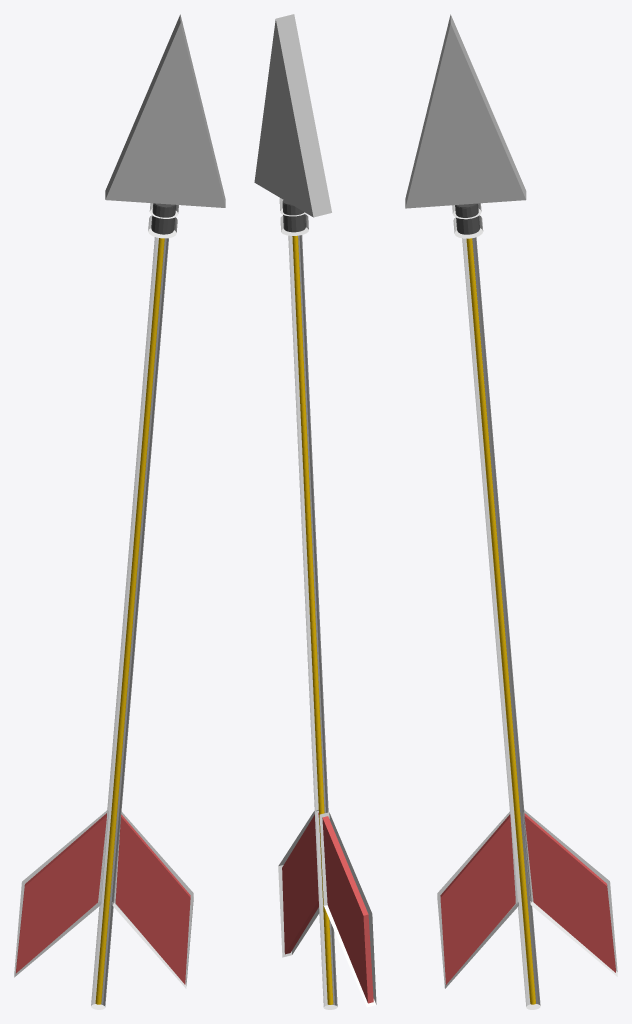
The model's file is aerrow2.glb.
3 renders of one model, left to right at view 1: azimuth 90°, elevation 25°; view 2: azimuth 210°, elevation 25°; view 3: azimuth 270°, elevation 25°, orthographic. The views are drawn at different scales.
Visible parts, largest first — view 1: Arrowhead, Shaft, Fin, Fin.001, Cylinder.002; view 2: Shaft, Arrowhead, Fin, Fin.001, Cylinder.002; view 3: Arrowhead, Shaft, Fin, Fin.001, Cylinder.002.
Part boxes in pixels (x1,y1,x2,y2): Arrowhead: [105, 14, 225, 207]; Shaft: [91, 237, 168, 1009]; Fin: [14, 810, 108, 977]; Fin.001: [112, 812, 193, 988]; Cylinder.002: [151, 203, 175, 233]; Shaft: [288, 235, 337, 1009]; Arrowhead: [254, 14, 331, 217]; Fin: [319, 812, 376, 1007]; Fin.001: [278, 810, 319, 957]; Cylinder.002: [282, 201, 305, 231]; Arrowhead: [405, 14, 526, 208]; Shaft: [462, 237, 540, 1009]; Fin: [523, 810, 617, 976]; Fin.001: [437, 811, 518, 988]; Cylinder.002: [455, 203, 479, 234].
Bounding box in the file's own units: 0.2015 × 7.58 × 1.47.
